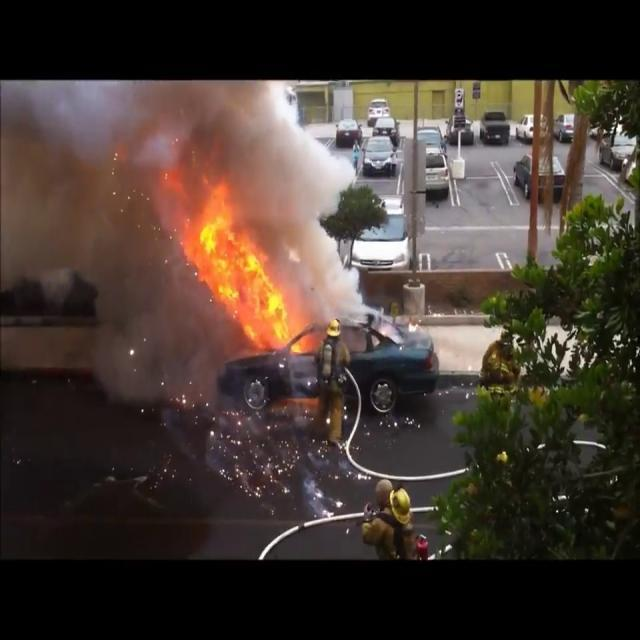Fire: (177, 182, 304, 354)
Smoke: (1, 80, 373, 344)
